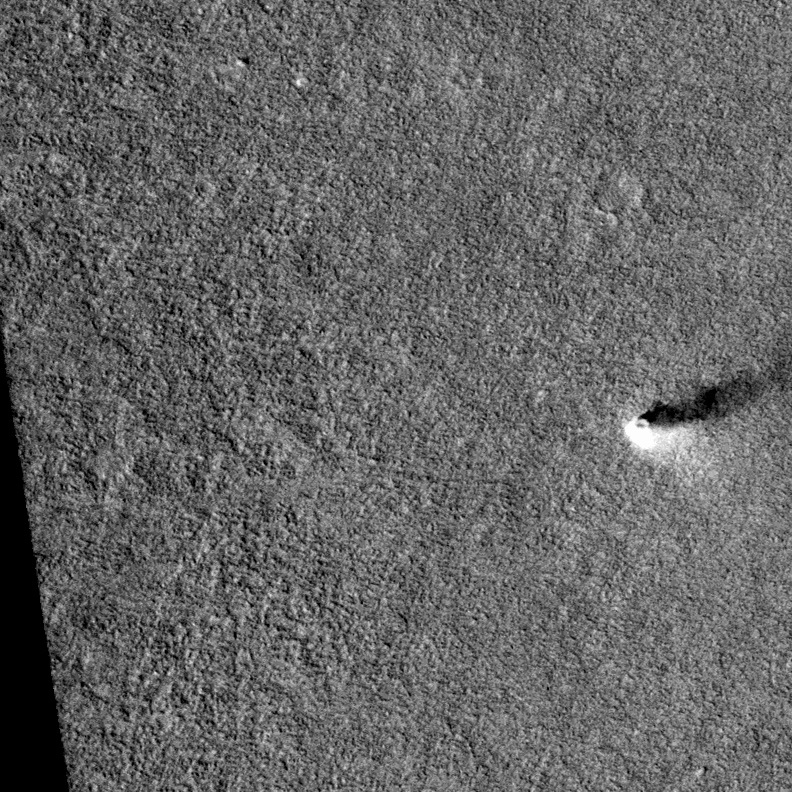dust_devil: (622, 353, 792, 452)
